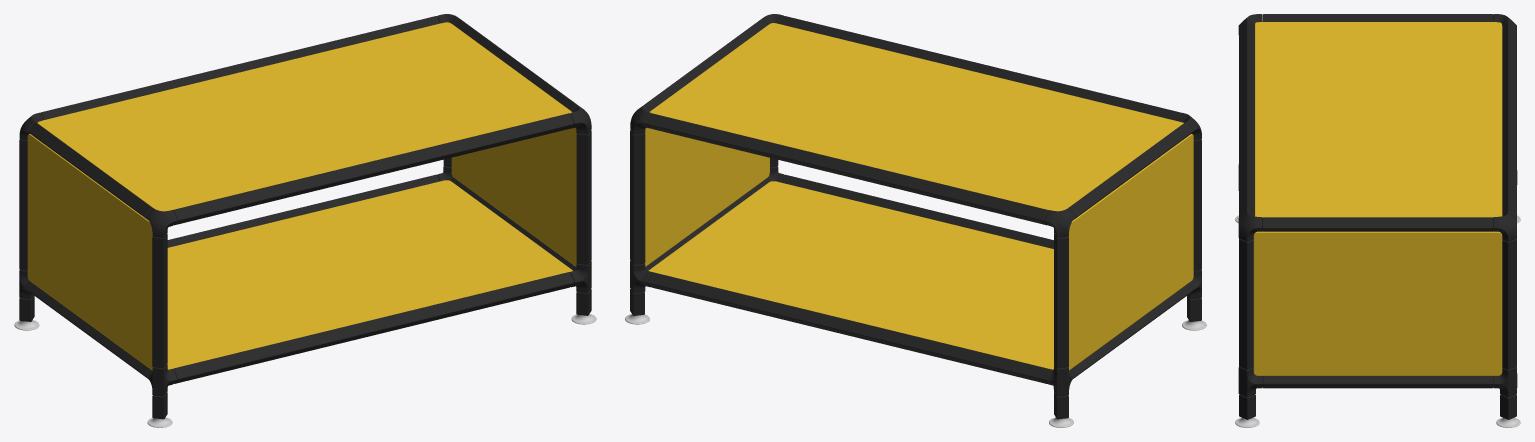
The picture shows the model from 3 angles, left to right: view 1: azimuth 30°, elevation 25°; view 2: azimuth 150°, elevation 25°; view 3: azimuth 270°, elevation 25°; orthographic projection.
Parts seen in each view (by area): view 1: 729x374x229; view 2: 729x374x229; view 3: 729x374x229.
Part boxes in pixels (bbox=[...]): 729x374x229: bbox=[14, 14, 596, 427]; 729x374x229: bbox=[625, 14, 1206, 427]; 729x374x229: bbox=[1235, 14, 1520, 427].
Size of the model in its own units: 0.8189 by 0.3683 by 0.4632.
